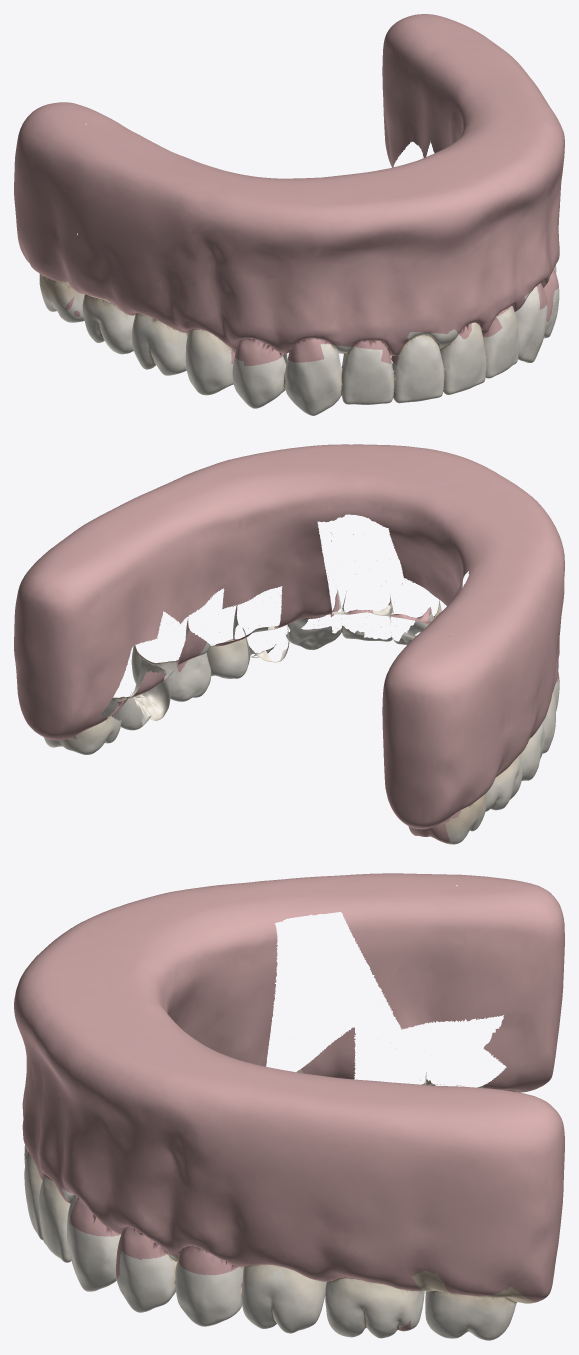
The model's file is arcada_superior_lite.glb.
The picture shows the model from 3 angles, top to bottom: view 1: azimuth 30°, elevation 25°; view 2: azimuth 150°, elevation 25°; view 3: azimuth 270°, elevation 25°; orthographic projection. The views are drawn at different scales.
Visible parts, largest first — view 1: mesh_node; view 2: mesh_node; view 3: mesh_node.
Boxes of the visible parts, x1=… form: mesh_node: x1=14, y1=14, x2=564, y2=415; mesh_node: x1=14, y1=444, x2=564, y2=844; mesh_node: x1=14, y1=873, x2=564, y2=1340.
Size of the model in its own units: 1.9 by 0.8337 by 1.66.
